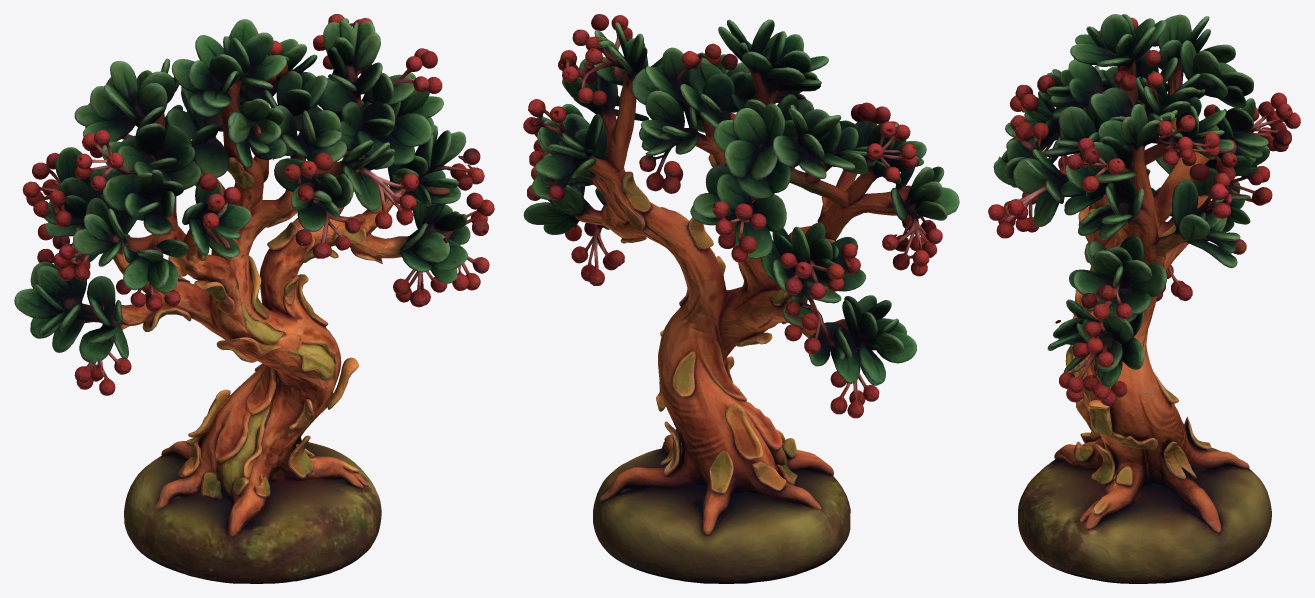
File: pacific-madrone.glb
3 views of the same model, side by side, from view 1: azimuth 30°, elevation 25°; view 2: azimuth 150°, elevation 25°; view 3: azimuth 270°, elevation 25° (orthographic).
Visible parts, largest first — view 1: world; view 2: world; view 3: world.
Part boxes in pixels (x1=…): world: x1=14, y1=14, x2=494, y2=583; world: x1=523, y1=14, x2=959, y2=583; world: x1=988, y1=14, x2=1300, y2=583.
Bounding box in the file's own units: 0.8687 × 0.9999 × 0.5612.
1 material, 1 textured.
